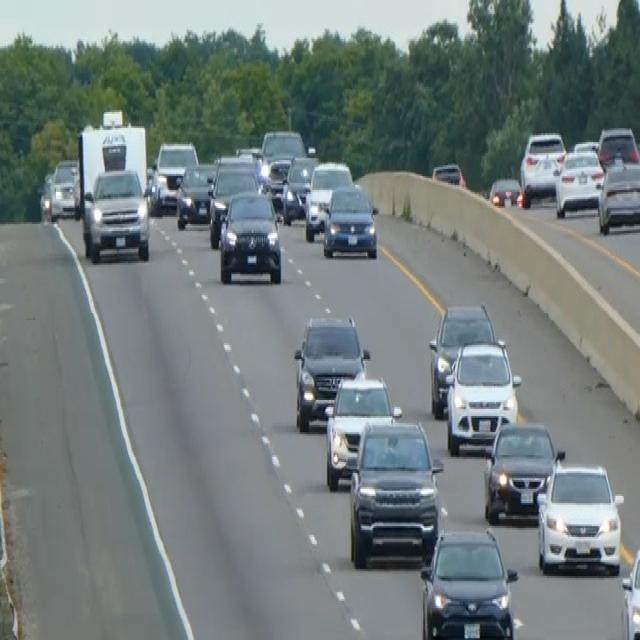car: (347, 414, 446, 567), (419, 524, 518, 638), (535, 455, 624, 576), (293, 311, 370, 432), (323, 372, 401, 491), (444, 336, 521, 455), (482, 418, 563, 524), (428, 299, 497, 416), (218, 188, 282, 284), (207, 158, 261, 247), (322, 180, 378, 260), (304, 158, 352, 240), (150, 139, 198, 213), (554, 146, 604, 217), (519, 128, 566, 201), (597, 155, 639, 233), (175, 160, 216, 229), (281, 153, 318, 224), (259, 126, 305, 182), (596, 123, 639, 169), (48, 156, 79, 218), (621, 542, 639, 638), (488, 174, 523, 208), (431, 160, 465, 187), (38, 170, 55, 220)
truck: (74, 109, 151, 263)
